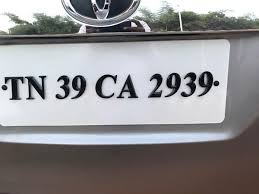T: (3, 75, 25, 102)
